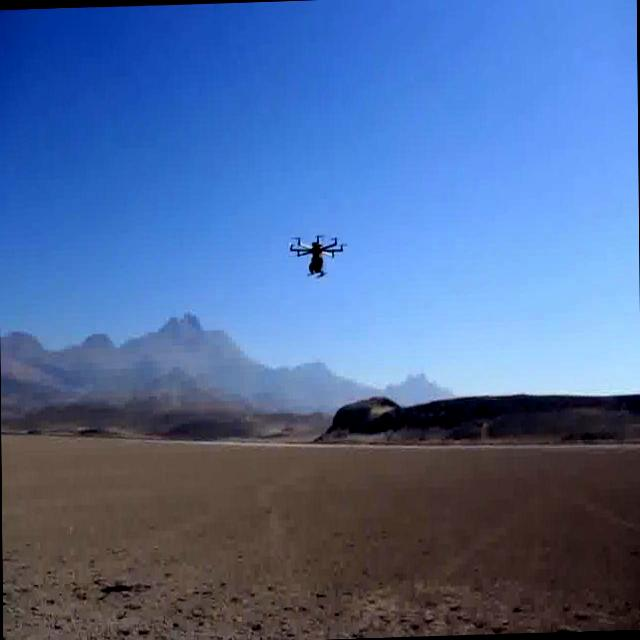drone: (283, 229, 346, 281)
